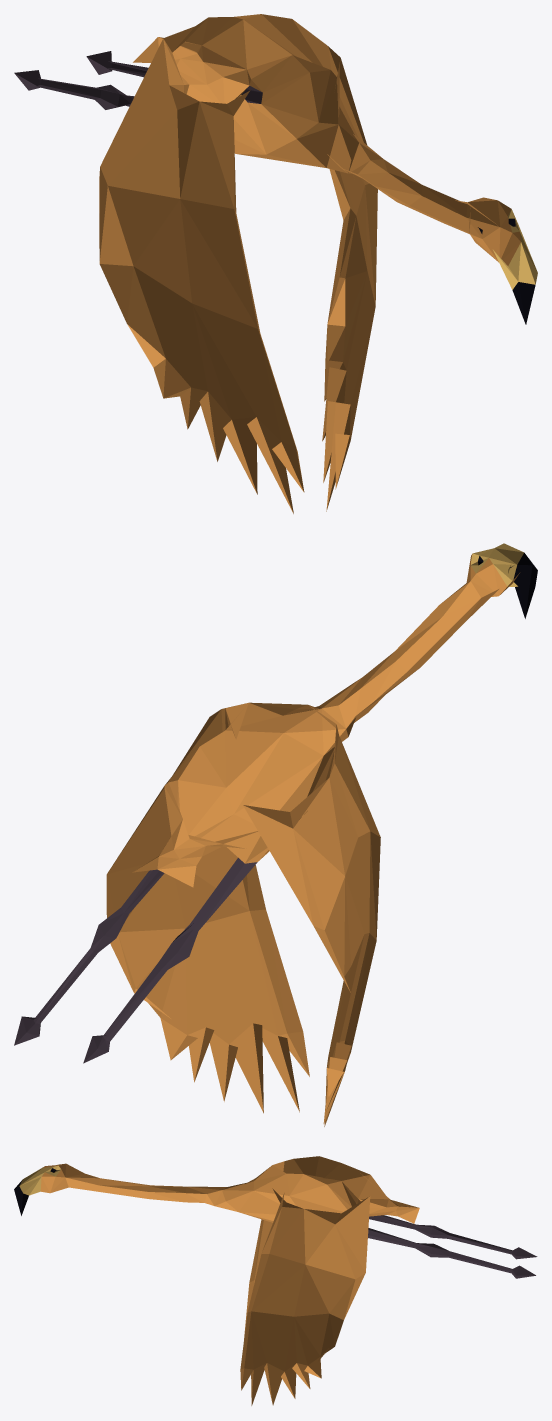
Rendered from Flamingo_orange_v2_mirrored.glb.
3 views of the same model, one above another, from view 1: azimuth 30°, elevation 25°; view 2: azimuth 150°, elevation 25°; view 3: azimuth 270°, elevation 25° (orthographic). The views are drawn at different scales.
Size of the model in its own units: 52.2 by 89.1 by 177.
